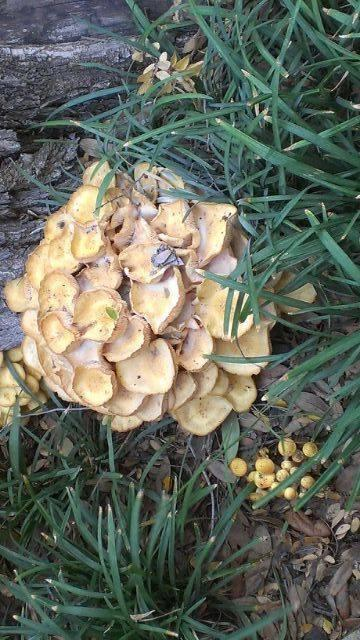Edible Mushroom: (3, 157, 293, 436)
